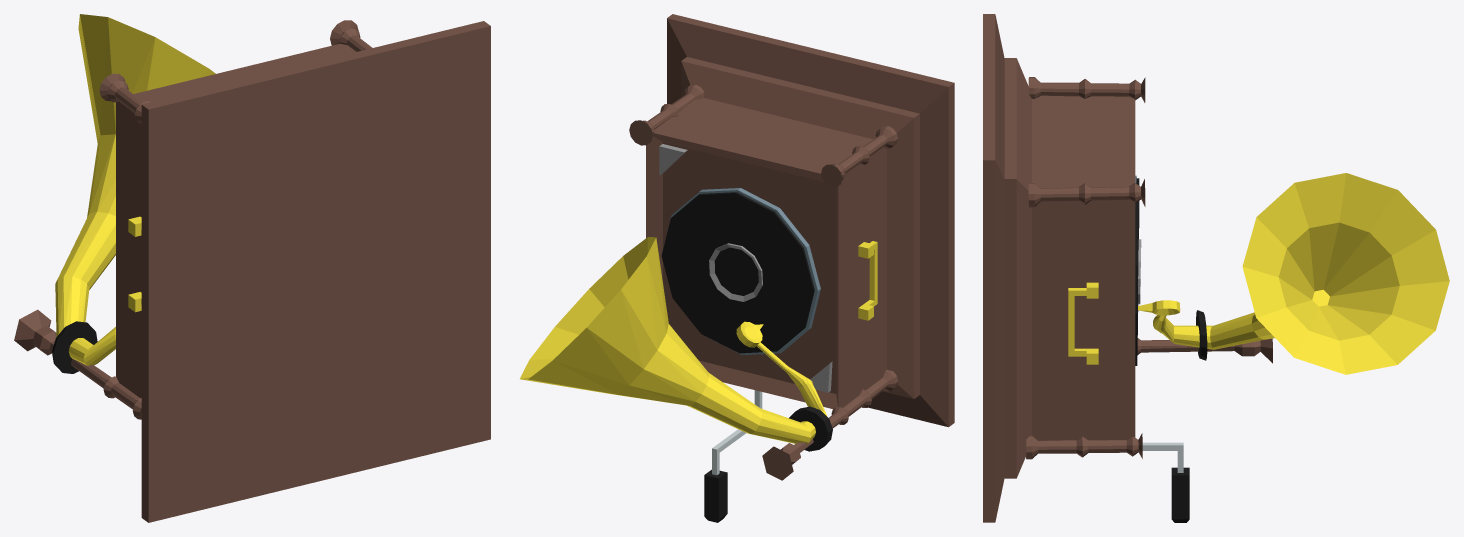
Rendered from 留聲機.fbx.
3 renders of one model, left to right at view 1: azimuth 30°, elevation 25°; view 2: azimuth 150°, elevation 25°; view 3: azimuth 270°, elevation 25°, orthographic. The views are drawn at different scales.
Parts seen in each view (by area): view 1: 物件_40, 物件_43, 物件_1; view 2: 物件_40, 物件_43, 物件_26, 物件_39, 物件_41, 物件_2, 物件_19, 物件_42; view 3: 物件_40, 物件_43, 物件_21.
Boxes of the visible parts, <box> form: 物件_40: <box>14,20,490,522</box>; 物件_43: <box>55,14,215,365</box>; 物件_1: <box>53,323,97,373</box>; 物件_40: <box>629,14,954,480</box>; 物件_43: <box>520,237,877,443</box>; 物件_26: <box>661,193,813,353</box>; 物件_39: <box>659,144,832,392</box>; 物件_41: <box>664,188,820,354</box>; 物件_2: <box>789,409,827,451</box>; 物件_19: <box>704,475,718,519</box>; 物件_42: <box>712,390,762,475</box>; 物件_40: <box>983,14,1272,522</box>; 物件_43: <box>1068,173,1449,374</box>; 物件_21: <box>1171,475,1189,519</box>.
Bounding box in the file's own units: 0.571 × 0.7693 × 0.7834.
